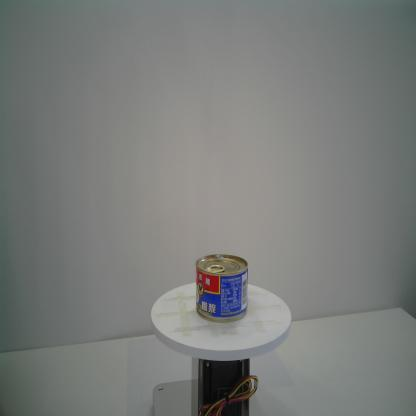Canned Food: (193, 252, 251, 325)
